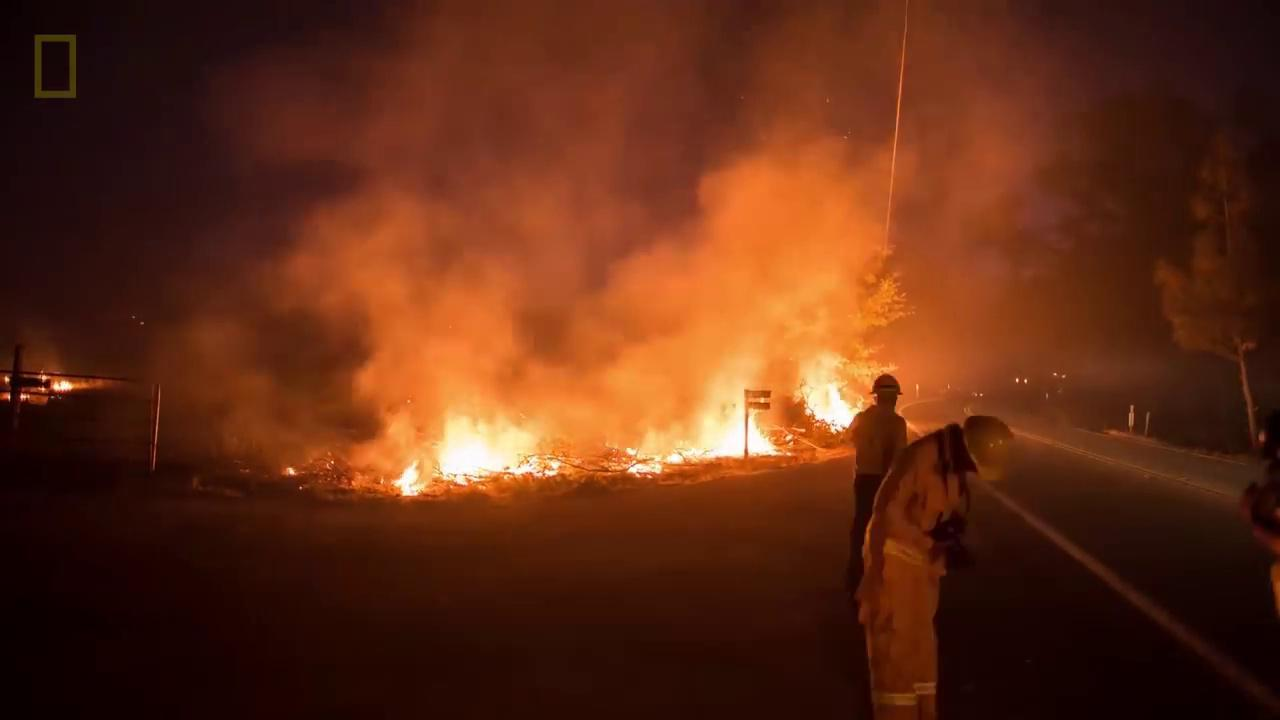Fire: (393, 411, 562, 497), (624, 388, 770, 483), (802, 375, 874, 429), (43, 375, 78, 395), (285, 463, 299, 477)
